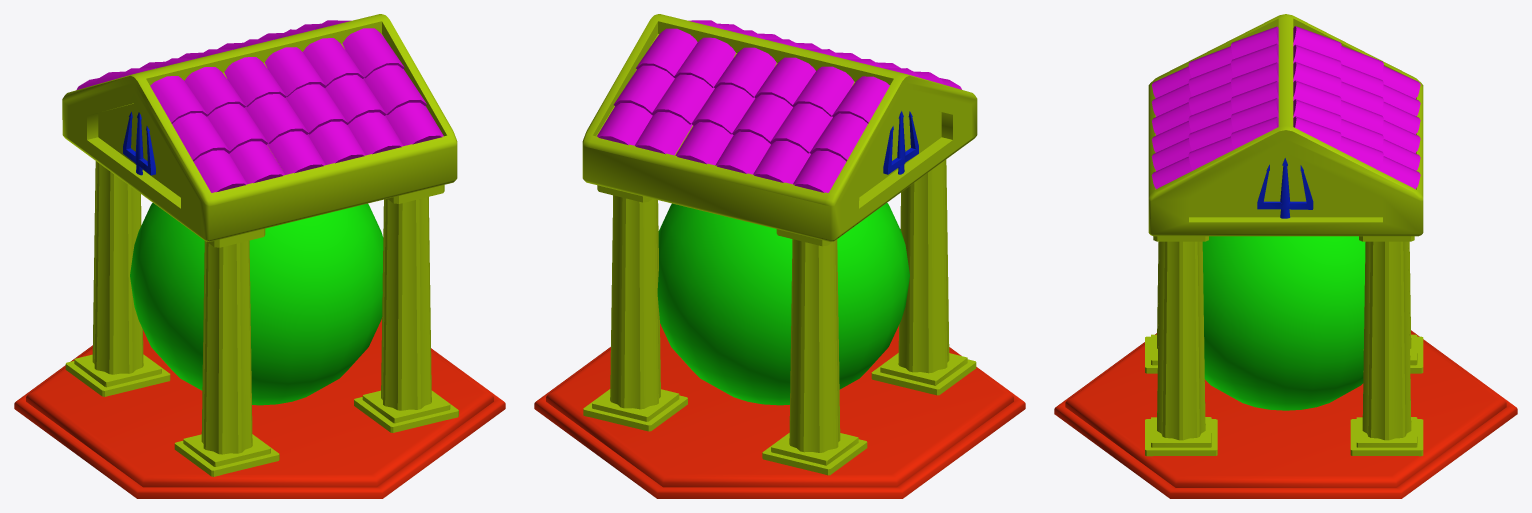
Rendered from FishbowlLevel1.fbx.
3 renders of one model, left to right at view 1: azimuth 30°, elevation 25°; view 2: azimuth 150°, elevation 25°; view 3: azimuth 270°, elevation 25°, orthographic. The views are drawn at different scales.
Parts seen in each view (by area): view 1: Base, Columns, Fishbowl, Tiles, Roof; view 2: Base, Columns, Fishbowl, Tiles, Roof; view 3: Base, Tiles, Fishbowl, Roof, Columns.
Part boxes in pixels (left/top/right/bottom): Base: left=14, top=317, right=505, bottom=498; Columns: left=65, top=161, right=458, bottom=476; Fishbowl: left=130, top=203, right=383, bottom=405; Tiles: left=76, top=20, right=443, bottom=192; Roof: left=62, top=14, right=457, bottom=241; Base: left=534, top=323, right=1025, bottom=498; Columns: left=583, top=159, right=976, bottom=475; Fishbowl: left=657, top=203, right=909, bottom=405; Tiles: left=597, top=20, right=961, bottom=192; Roof: left=582, top=14, right=977, bottom=241; Base: left=1054, top=330, right=1517, bottom=498; Tiles: left=1151, top=26, right=1420, bottom=189; Fishbowl: left=1202, top=236, right=1365, bottom=410; Roof: left=1148, top=14, right=1423, bottom=236; Columns: left=1145, top=236, right=1423, bottom=456.
Bounding box in the file's own units: 327 × 308 × 377.
